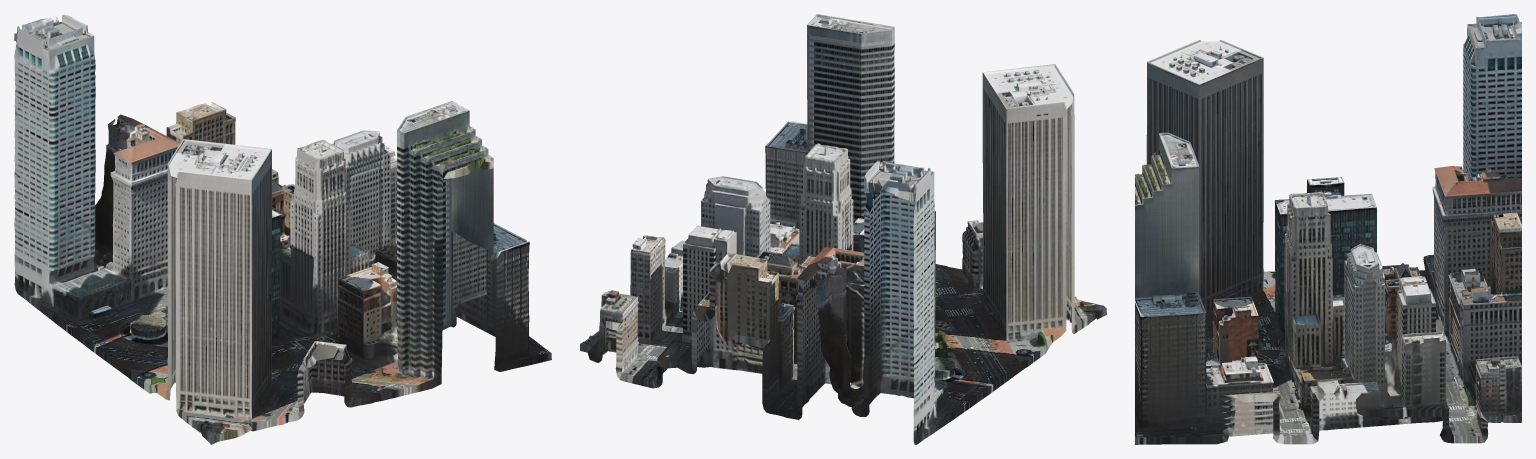
The model's file is z17-20971-50654-h0-yup-uvflip-v3-world.glb.
The picture shows the model from 3 angles, left to right: view 1: azimuth 30°, elevation 25°; view 2: azimuth 150°, elevation 25°; view 3: azimuth 270°, elevation 25°; orthographic projection. The views are drawn at different scales.
Bounding box in the file's own units: 242 × 187 × 243.
Materials: 1 (1 with a texture image).
